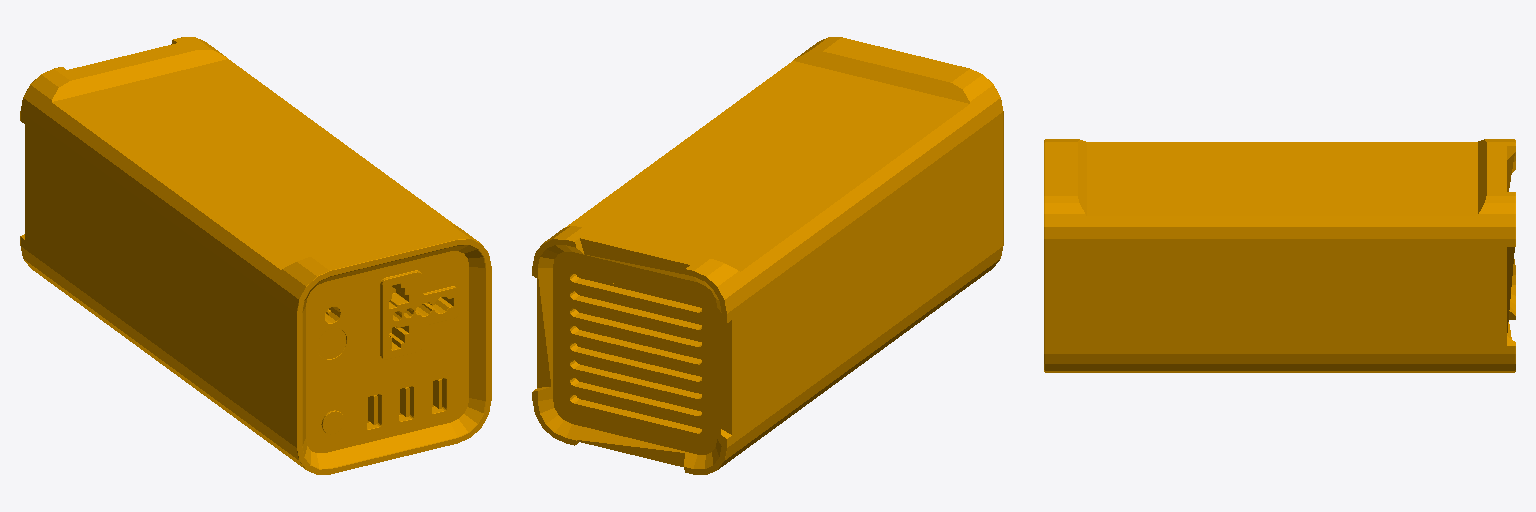
URDF robot description (powerbank):
<?xml version="1.0"?>
<robot name="powerbank">
  <link name="powerbank">
    <visual>
      <origin xyz="0.0 0.0 0.0" rpy="1.5708 0.0 0.0"/>
      <geometry>
        <mesh filename="powerbank.obj" scale="0.07 0.07 0.07"/>
      </geometry>
    </visual>
    <collision>
      <origin xyz="0.0 0.0 0.0" rpy="1.5708 0.0 0.0"/>
      <geometry>
        <mesh filename="powerbank.obj" scale="0.07 0.07 0.07"/>
      </geometry>
    </collision>
    <inertial>
      <mass value="0.8"/>
      <inertia ixx="0.0001" ixy="0.0" ixz="0.0" iyy="0.0001" iyz="0.0" izz="0.0001"/>
    </inertial>
  </link>
</robot>

--- Render facts (derived) ---
Views: 3 orthographic renders of the robot side by side, from view 1: azimuth 30°, elevation 25°; view 2: azimuth 150°, elevation 25°; view 3: azimuth 270°, elevation 25°.
Robot: powerbank — 1 links, 0 joints (none); root link powerbank; default pose: all joints at 0.
Visible links, largest first — view 1: powerbank; view 2: powerbank; view 3: powerbank.
Link boxes in pixels (left/top/right/bottom): powerbank: left=20, top=37, right=491, bottom=474; powerbank: left=532, top=37, right=1003, bottom=474; powerbank: left=1044, top=139, right=1515, bottom=372.
Bounding box of the posed robot: 0.0661 × 0.1625 × 0.0661 m (x, y, z).
1 mesh visuals loaded from 1 distinct referenced files (1 OBJ).